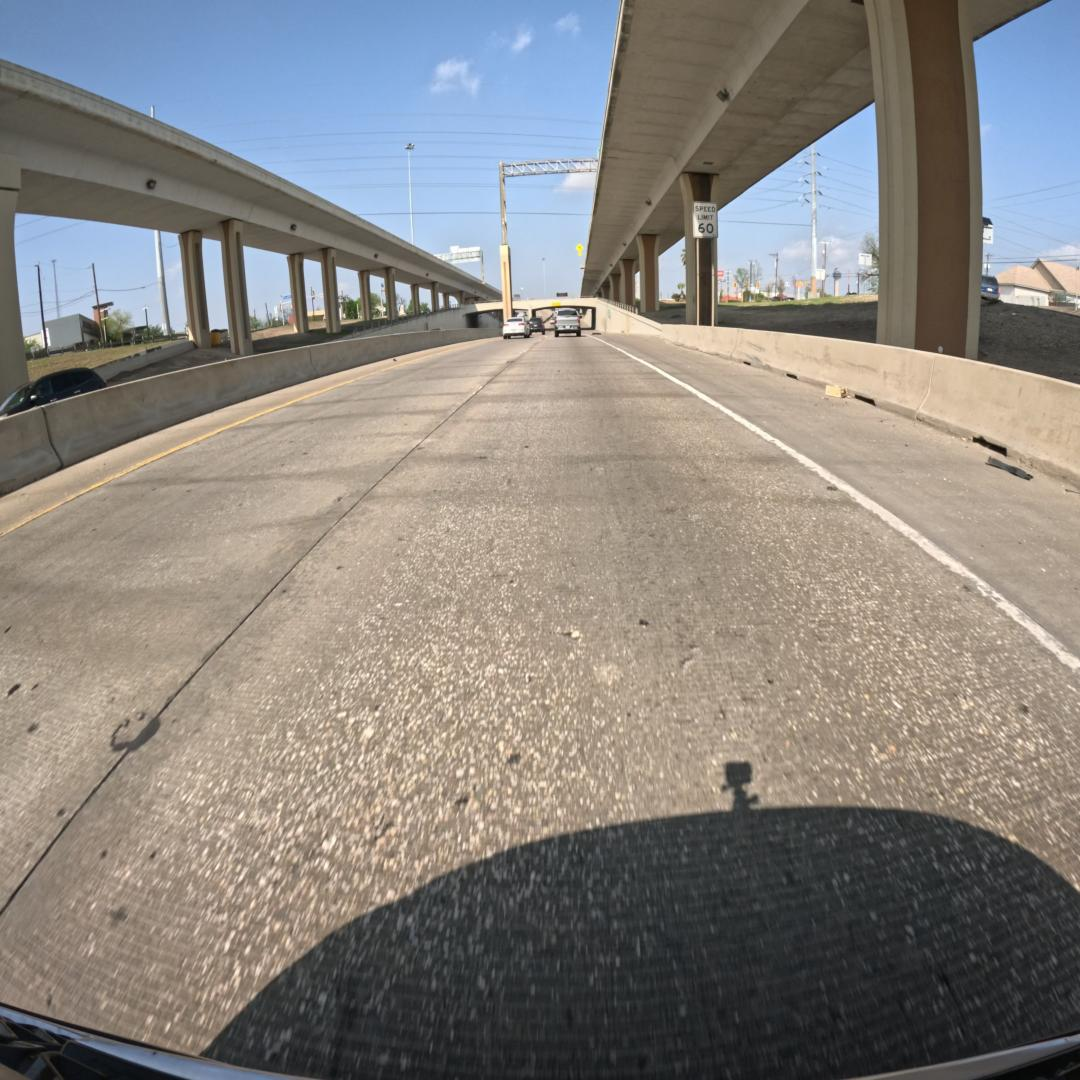lane0: (0, 337, 1080, 1080)
lane1: (0, 340, 534, 911)
